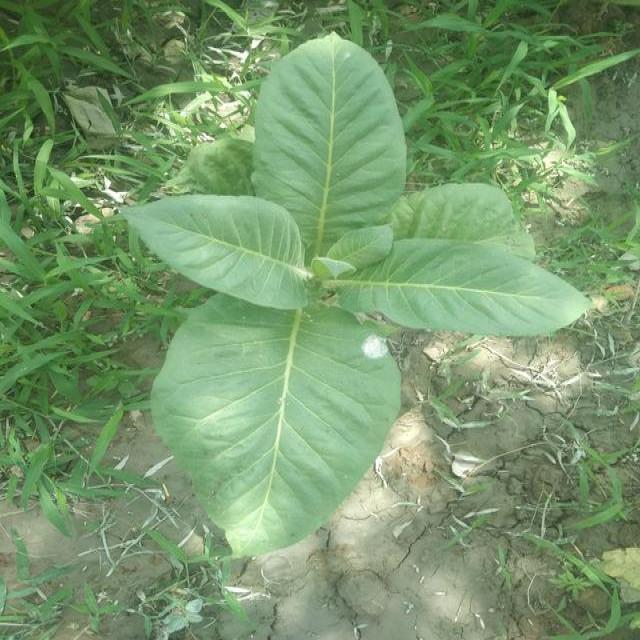crop: (119, 36, 586, 560)
